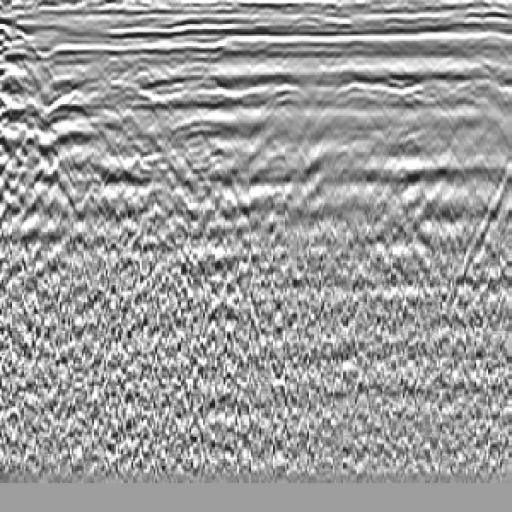metalic: (326, 64, 416, 119)
